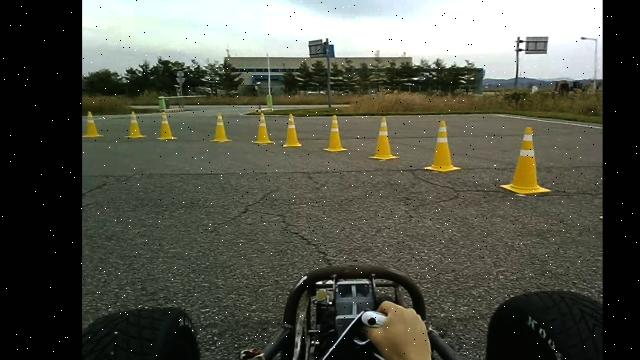yellow cone: (499, 126, 551, 195), (423, 119, 461, 173), (368, 116, 399, 160), (322, 114, 348, 153), (209, 111, 232, 143), (282, 112, 302, 148), (253, 110, 274, 144), (124, 109, 146, 138), (156, 111, 177, 141), (82, 110, 103, 138)
